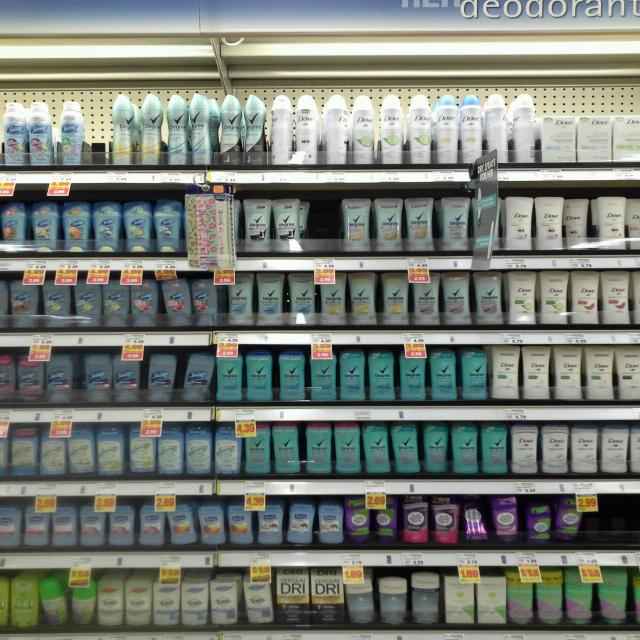unorganised: (177, 349, 216, 406), (163, 501, 199, 552), (458, 495, 491, 547), (189, 93, 212, 167), (272, 198, 301, 256), (38, 576, 69, 630), (378, 575, 407, 630), (525, 499, 555, 548), (70, 578, 98, 629), (564, 196, 592, 247), (192, 277, 221, 326)
